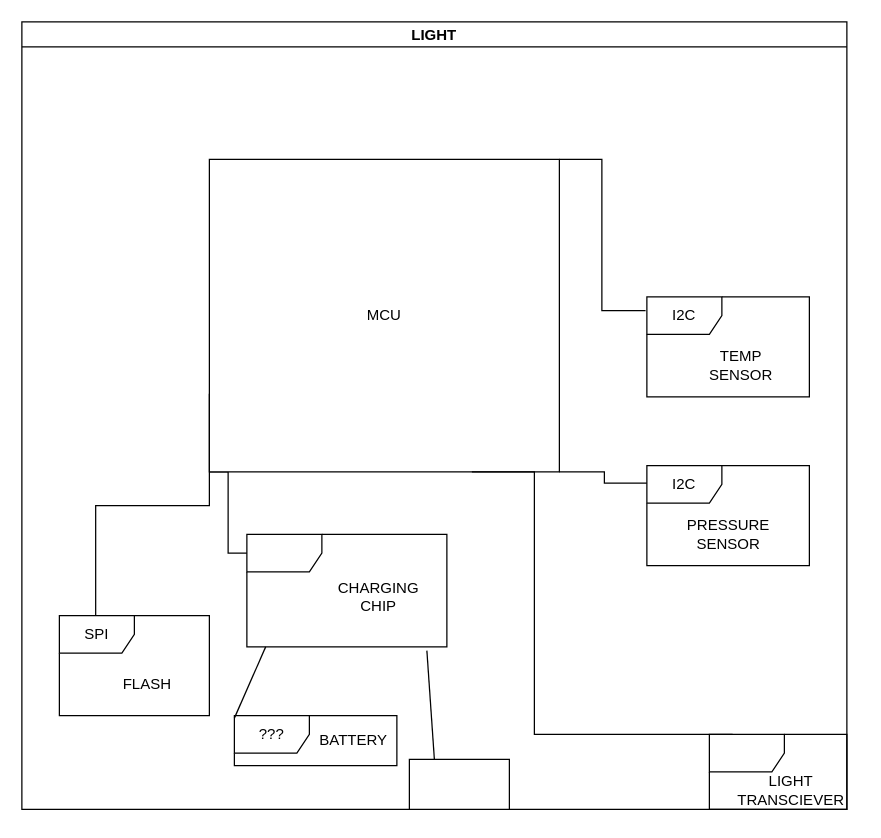
The diagram is 881 pixels wide and 838 high, and some of its shapes have lost their labels. The box of each missing label's shape, as (x1, y1, x2, y2) in pixels:
ADC: (246, 533, 447, 647)
connector: (408, 758, 509, 809)
serial: (708, 733, 847, 809)
